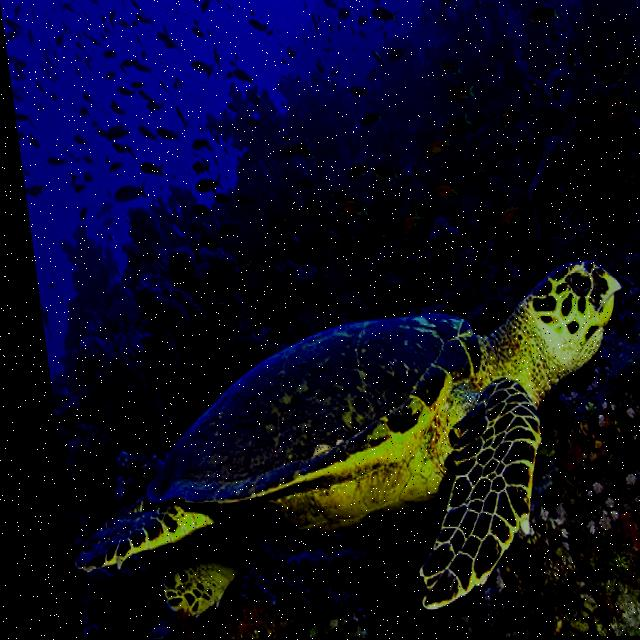sea turtle: (115, 311, 481, 497), (50, 474, 267, 633), (468, 210, 634, 390), (390, 429, 552, 612)
